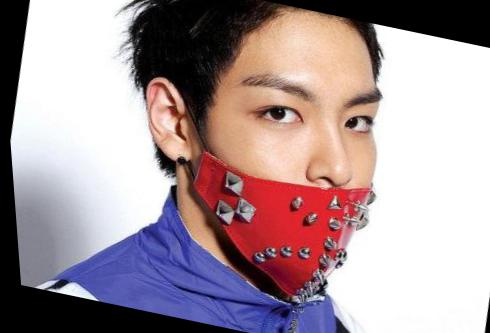WRONG: (146, 45, 412, 296)
